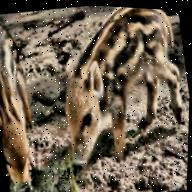boar: (44, 3, 192, 169), (0, 9, 61, 192)
